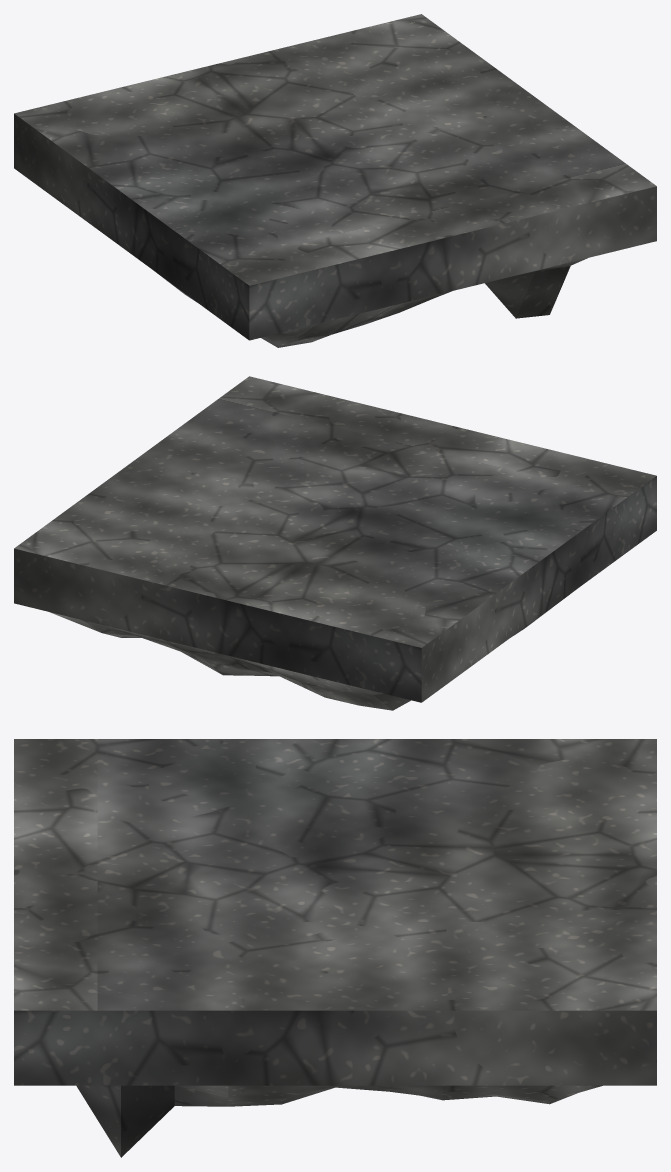
File: kit_ceiling_cave2.glb
3 views of the same model, one above another, from view 1: azimuth 30°, elevation 25°; view 2: azimuth 150°, elevation 25°; view 3: azimuth 270°, elevation 25° (orthographic). The views are drawn at different scales.
Parts seen in each view (by area): view 1: kit_ceiling_cave2; view 2: kit_ceiling_cave2; view 3: kit_ceiling_cave2.
Boxes of the visible parts, x1,y1,x2,y2 form: kit_ceiling_cave2: (14,14,656,347); kit_ceiling_cave2: (14,376,656,710); kit_ceiling_cave2: (14,739,656,1157).
Bounding box in the file's own units: 2.8 × 1.06 × 2.8.
Materials: 1 (1 with a texture image).
